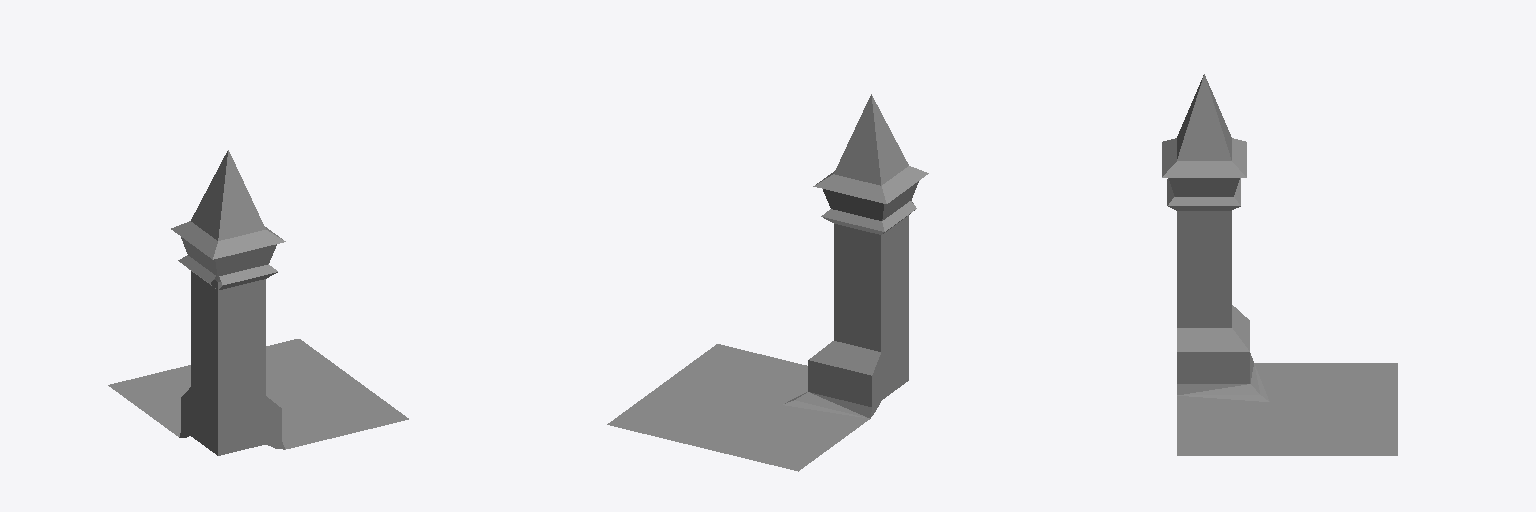
File: Ext_Wall_Corner_In.obj
3 views of the same model, side by side, from view 1: azimuth 30°, elevation 25°; view 2: azimuth 150°, elevation 25°; view 3: azimuth 270°, elevation 25° (orthographic).
Visible parts, largest first — view 1: Palette; view 2: Palette; view 3: Palette.
Boxes of the visible parts, x1,y1,x2,y2 form: Palette: [108, 150, 408, 455]; Palette: [607, 94, 928, 471]; Palette: [1162, 74, 1397, 455].
Bounding box in the file's own units: 6.4 × 9 × 6.4.